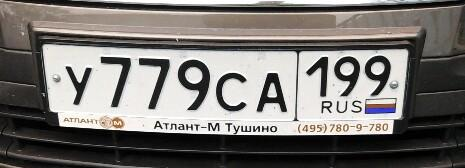license-plateSW: (39, 45, 420, 123)
